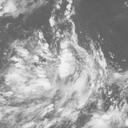cyclone: (33, 34, 94, 103)
